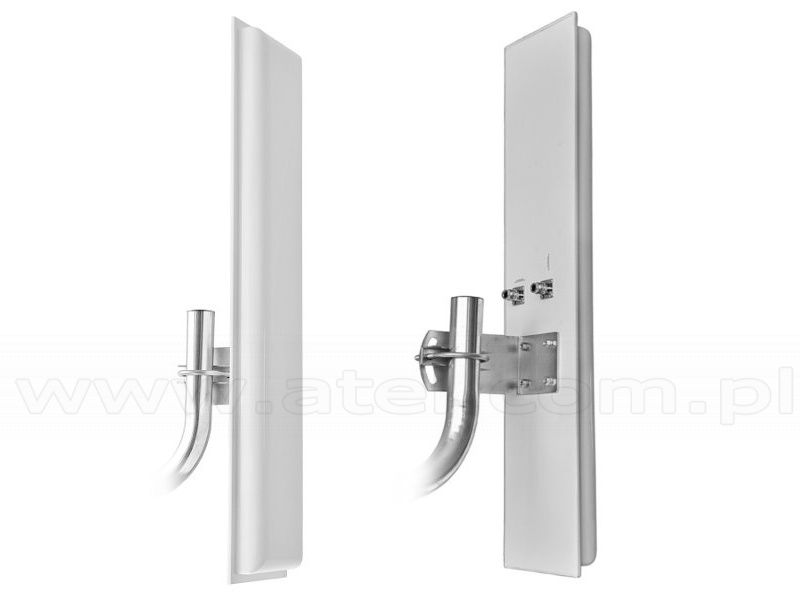sa: (477, 19, 602, 588), (209, 10, 322, 580)
